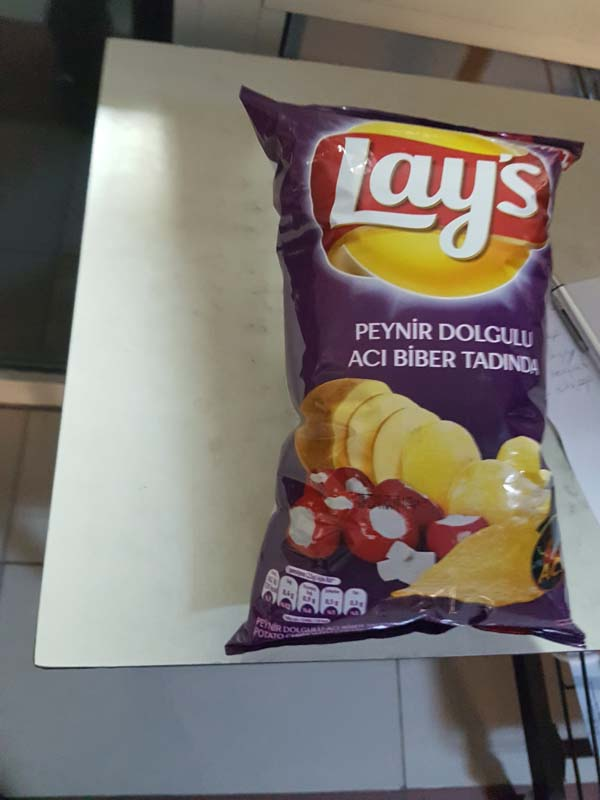layspeynirsoslu: (237, 84, 588, 661)
